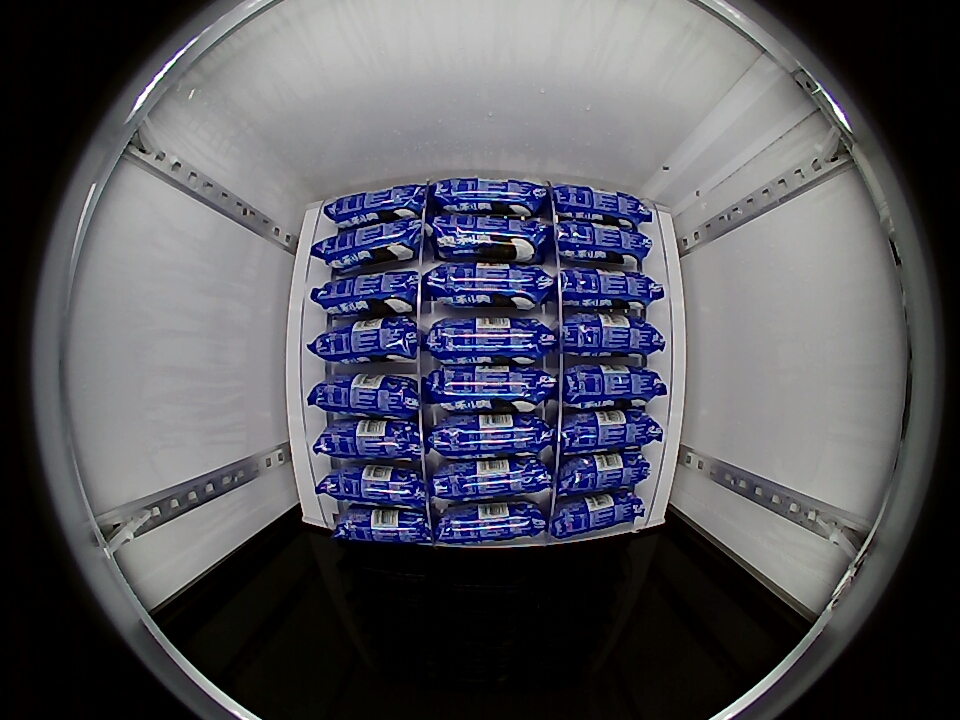aoliao: (427, 314, 554, 367), (426, 364, 555, 414), (426, 260, 552, 310), (556, 309, 667, 364), (322, 217, 420, 278), (430, 211, 548, 261), (429, 413, 550, 460), (553, 262, 672, 309), (431, 458, 550, 504), (433, 500, 547, 547), (324, 370, 424, 422), (430, 175, 549, 217), (324, 315, 420, 363), (550, 491, 638, 543), (563, 362, 658, 410), (328, 183, 429, 227), (326, 465, 425, 509), (554, 217, 646, 264), (317, 280, 432, 317), (562, 411, 652, 456), (333, 419, 423, 462), (332, 506, 431, 545), (550, 183, 641, 225), (559, 463, 652, 497)
